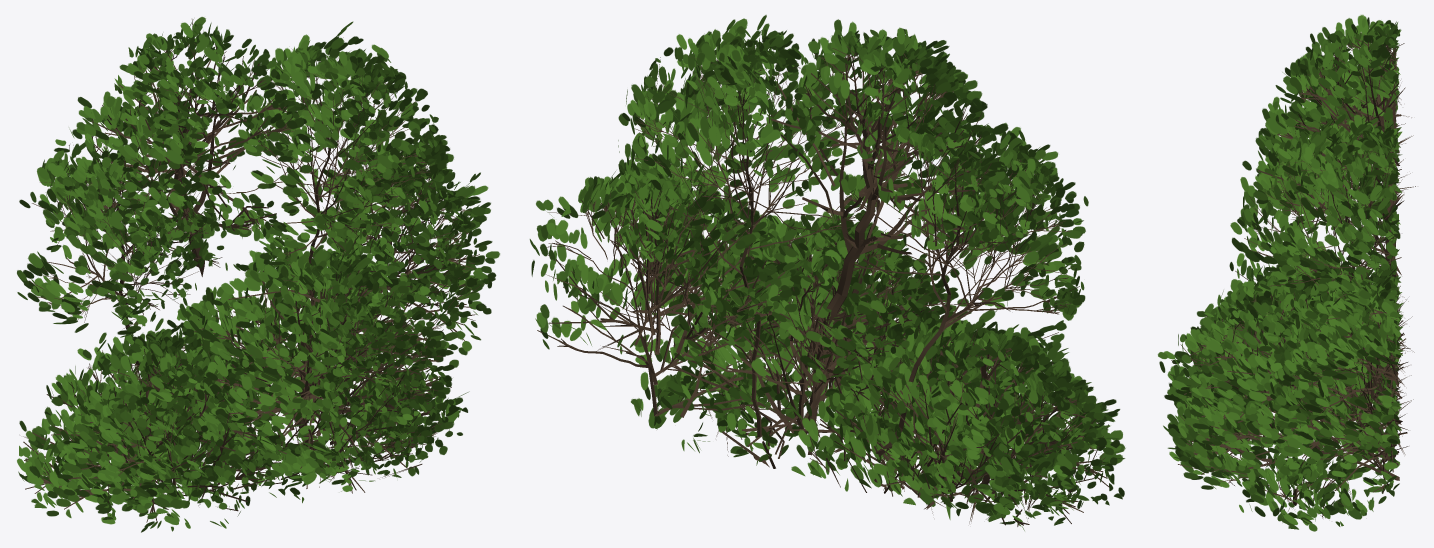
3 views of the same model, side by side, from view 1: azimuth 30°, elevation 25°; view 2: azimuth 150°, elevation 25°; view 3: azimuth 270°, elevation 25° (orthographic). The views are drawn at different scales.
Visible parts, largest first — view 1: oak 01.001_trunk_Mat.001_0.192; view 2: oak 01.001_trunk_Mat.001_0.192; view 3: oak 01.001_trunk_Mat.001_0.192.
Boxes of the visible parts, left/top/right/bottom form: oak 01.001_trunk_Mat.001_0.192: left=17, top=17, right=499, bottom=532; oak 01.001_trunk_Mat.001_0.192: left=529, top=15, right=1125, bottom=530; oak 01.001_trunk_Mat.001_0.192: left=1157, top=14, right=1415, bottom=531.
Size of the model in its own units: 5.46 by 4.57 by 2.6.
Materials: 2 (1 with a texture image).
